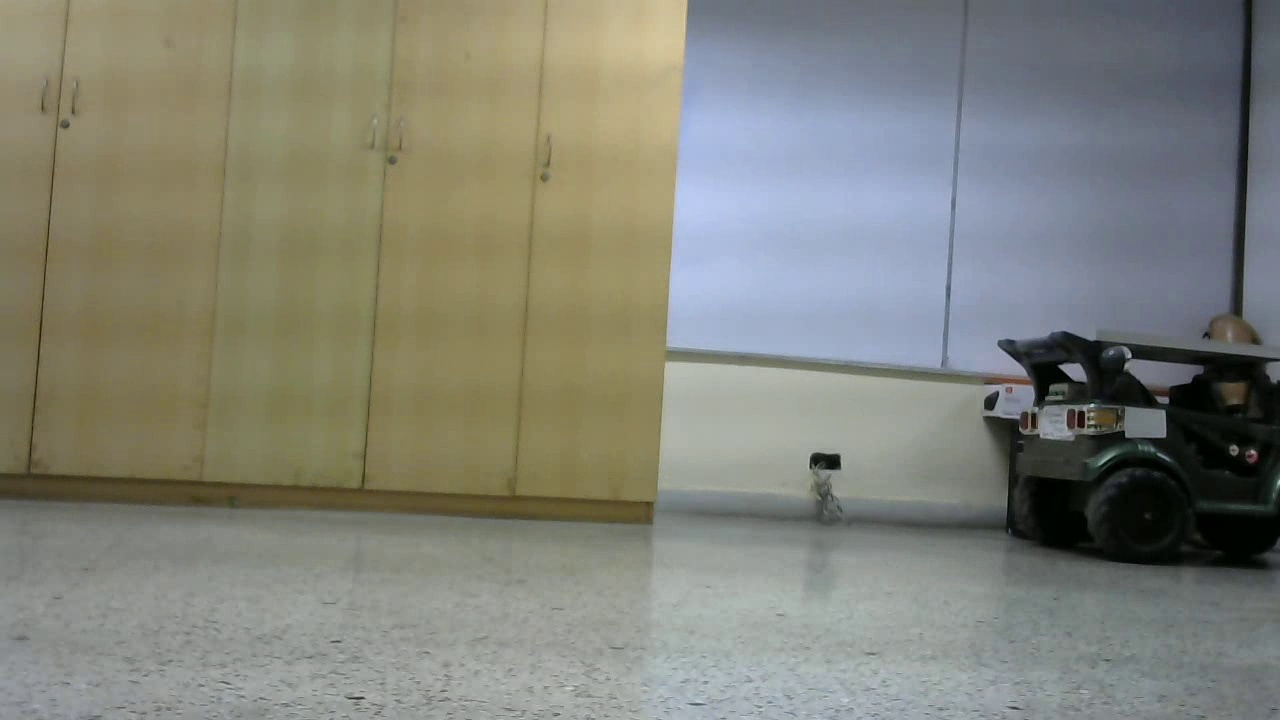chair: (1053, 60, 1280, 680), (491, 97, 765, 571)
